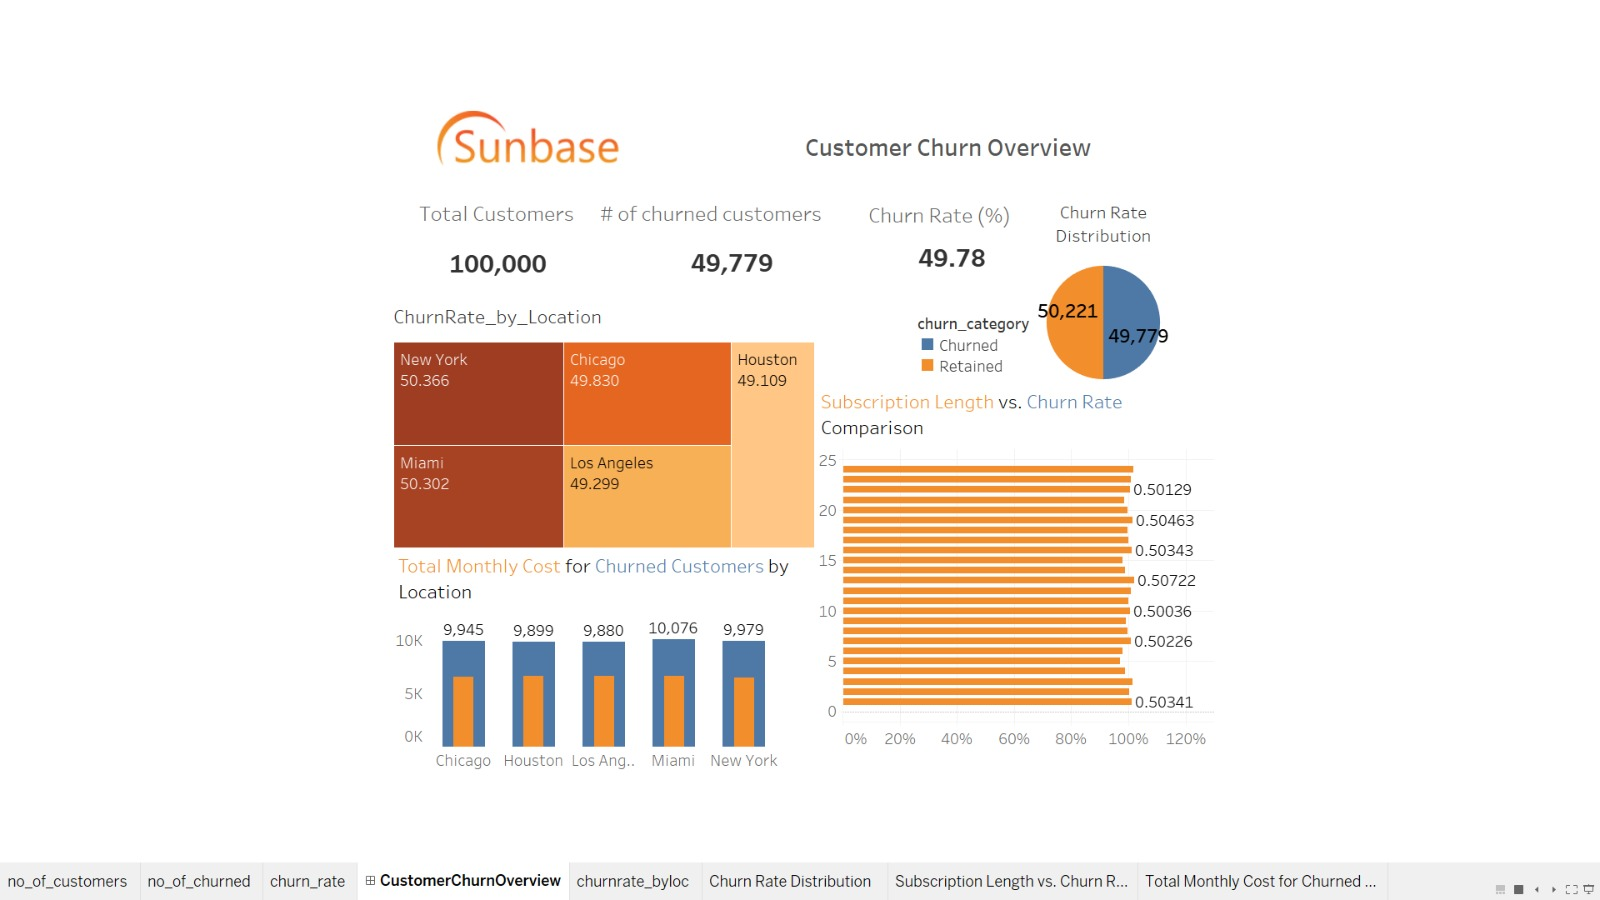

The dashboard page shown, as its layout file describes it:
{"tool":"tableau","page":{"name":"CustomerChurnOverview","canvas":[1000,800],"ordinal":0},"visuals":[{"type":"image","param":"C:/Users/USER/Downloads/company_logo.png","box":[6,12,349,78]},{"type":"text","box":[502,22,353,74]},{"type":"text","box":[39,101,202,76]},{"type":"text","box":[256,101,346,76]},{"type":"text","box":[578,103,202,76]},{"type":"worksheet","title":"no_of_customers","mark":"Text","box":[6,112,241,242]},{"type":"worksheet","title":"Churn Rate Distribution","mark":"Pie","box":[784,119,196,244]},{"type":"worksheet","title":"churn_rate","mark":"Text","box":[533,126,333,266]},{"type":"worksheet","title":"no_of_churned","mark":"Text","box":[278,132,203,132]},{"type":"worksheet","title":"churnrate_byloc","mark":"Automatic","box":[8,243,513,302]},{"type":"legend","title":"Churn Rate Distribution","param":"[federated.0fuhbl31hk3ton11qc5nc0hbikfx].[none:Calculation_1216816338087964680:n","box":[641,258,140,76]},{"type":"worksheet","title":"Subscription Length vs. Churn Rate Comparison","mark":"Bar","rows":["Subscription_Length_Months"],"box":[521,345,476,436]}]}

Visuals, with their boxes on the page's 1000x800 design canvas (x1, y1, x2, y2). These are canvas units, not pixel positions in the 1600x900 screenshot, which may show the page scaled, cropped or inside an application window:
image: 6/12/355/90
text: 502/22/855/96
text: 39/101/241/177
text: 256/101/602/177
text: 578/103/780/179
"no_of_customers" worksheet (Text marks): 6/112/247/354
"Churn Rate Distribution" worksheet (Pie marks): 784/119/980/363
"churn_rate" worksheet (Text marks): 533/126/866/392
"no_of_churned" worksheet (Text marks): 278/132/481/264
"churnrate_byloc" worksheet: 8/243/521/545
"Churn Rate Distribution" legend: 641/258/781/334
"Subscription Length vs. Churn Rate Comparison" worksheet (Bar marks): 521/345/997/781
